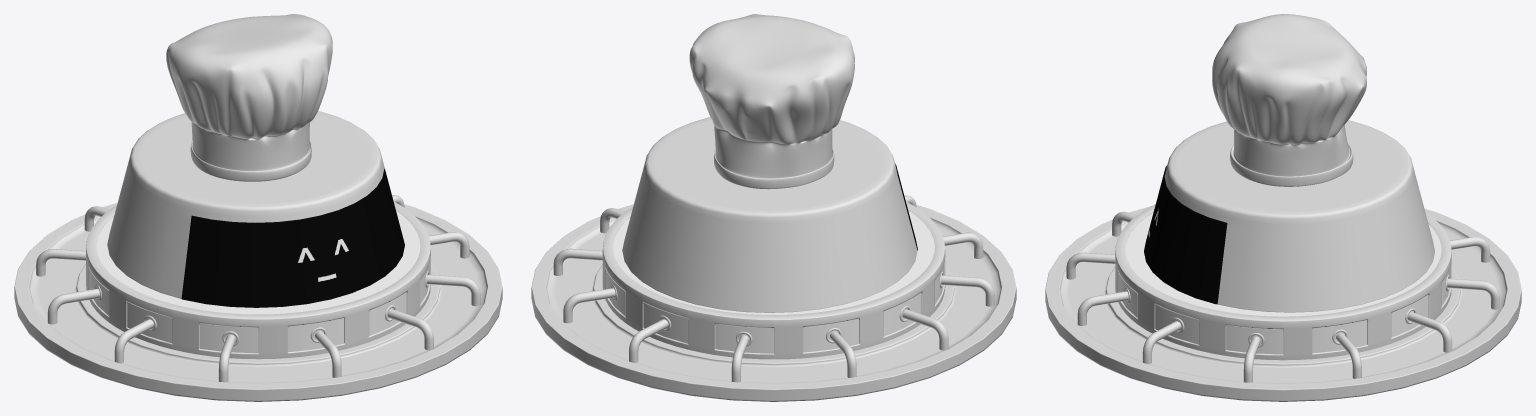
Rendered from asset.glb.
3 renders of one model, left to right at view 1: azimuth 30°, elevation 25°; view 2: azimuth 150°, elevation 25°; view 3: azimuth 270°, elevation 25°, orthographic. The views are drawn at different scales.
Visible parts, largest first — view 1: Cylinder.017, Cylinder.002, Hat, Cylinder.003, Cylinder.001, Cylinder, Cube.001; view 2: Cylinder.002, Cylinder.017, Hat, Cylinder.001, Cylinder, Cube.001; view 3: Cylinder.002, Cylinder.017, Hat, Cylinder.001, Cylinder, Cylinder.003, Cube.001.
Part boxes in pixels (x1=…): Cylinder.017: x1=14, y1=203, x2=502, y2=401; Cylinder.002: x1=107, y1=111, x2=401, y2=298; Hat: x1=166, y1=14, x2=332, y2=181; Cylinder.003: x1=181, y1=169, x2=404, y2=307; Cylinder.001: x1=86, y1=202, x2=430, y2=359; Cylinder: x1=90, y1=211, x2=429, y2=353; Cube.001: x1=36, y1=195, x2=480, y2=382; Cylinder.002: x1=622, y1=117, x2=917, y2=312; Cylinder.017: x1=531, y1=204, x2=1016, y2=401; Hat: x1=689, y1=14, x2=854, y2=189; Cylinder.001: x1=602, y1=201, x2=945, y2=359; Cylinder: x1=606, y1=210, x2=943, y2=353; Cube.001: x1=553, y1=195, x2=994, y2=382; Cylinder.002: x1=1164, y1=120, x2=1434, y2=312; Cylinder.017: x1=1045, y1=206, x2=1521, y2=401; Hat: x1=1212, y1=14, x2=1366, y2=186; Cylinder.001: x1=1115, y1=204, x2=1451, y2=360; Cylinder: x1=1119, y1=212, x2=1450, y2=354; Cylinder.003: x1=1144, y1=165, x2=1227, y2=304; Cube.001: x1=1066, y1=211, x2=1499, y2=382.
Size of the model in its own units: 2.42 by 1.45 by 2.42.
Materials: 6 (1 with a texture image).
